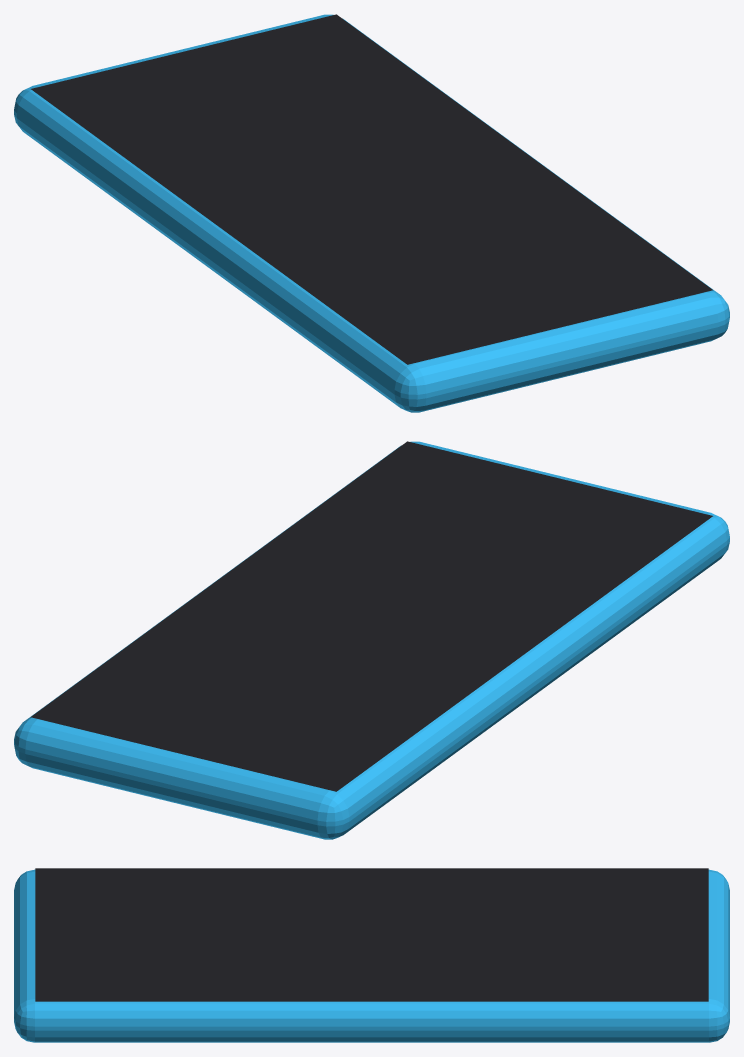
The model's file is Phone_530.glb.
3 renders of one model, top to bottom at view 1: azimuth 30°, elevation 25°; view 2: azimuth 150°, elevation 25°; view 3: azimuth 270°, elevation 25°, orthographic. The views are drawn at different scales.
Visible parts, largest first — view 1: Phone_Screen, Phone_Body; view 2: Phone_Screen, Phone_Body; view 3: Phone_Screen, Phone_Body.
Boxes of the visible parts, x1,y1,x2,y2 form: Phone_Screen: (31, 14, 712, 364); Phone_Body: (14, 14, 729, 412); Phone_Screen: (31, 441, 712, 791); Phone_Body: (14, 441, 729, 839); Phone_Screen: (35, 868, 708, 1001); Phone_Body: (14, 869, 729, 1042).
Size of the model in its own units: 0.0726 by 0.0099 by 0.1516.
